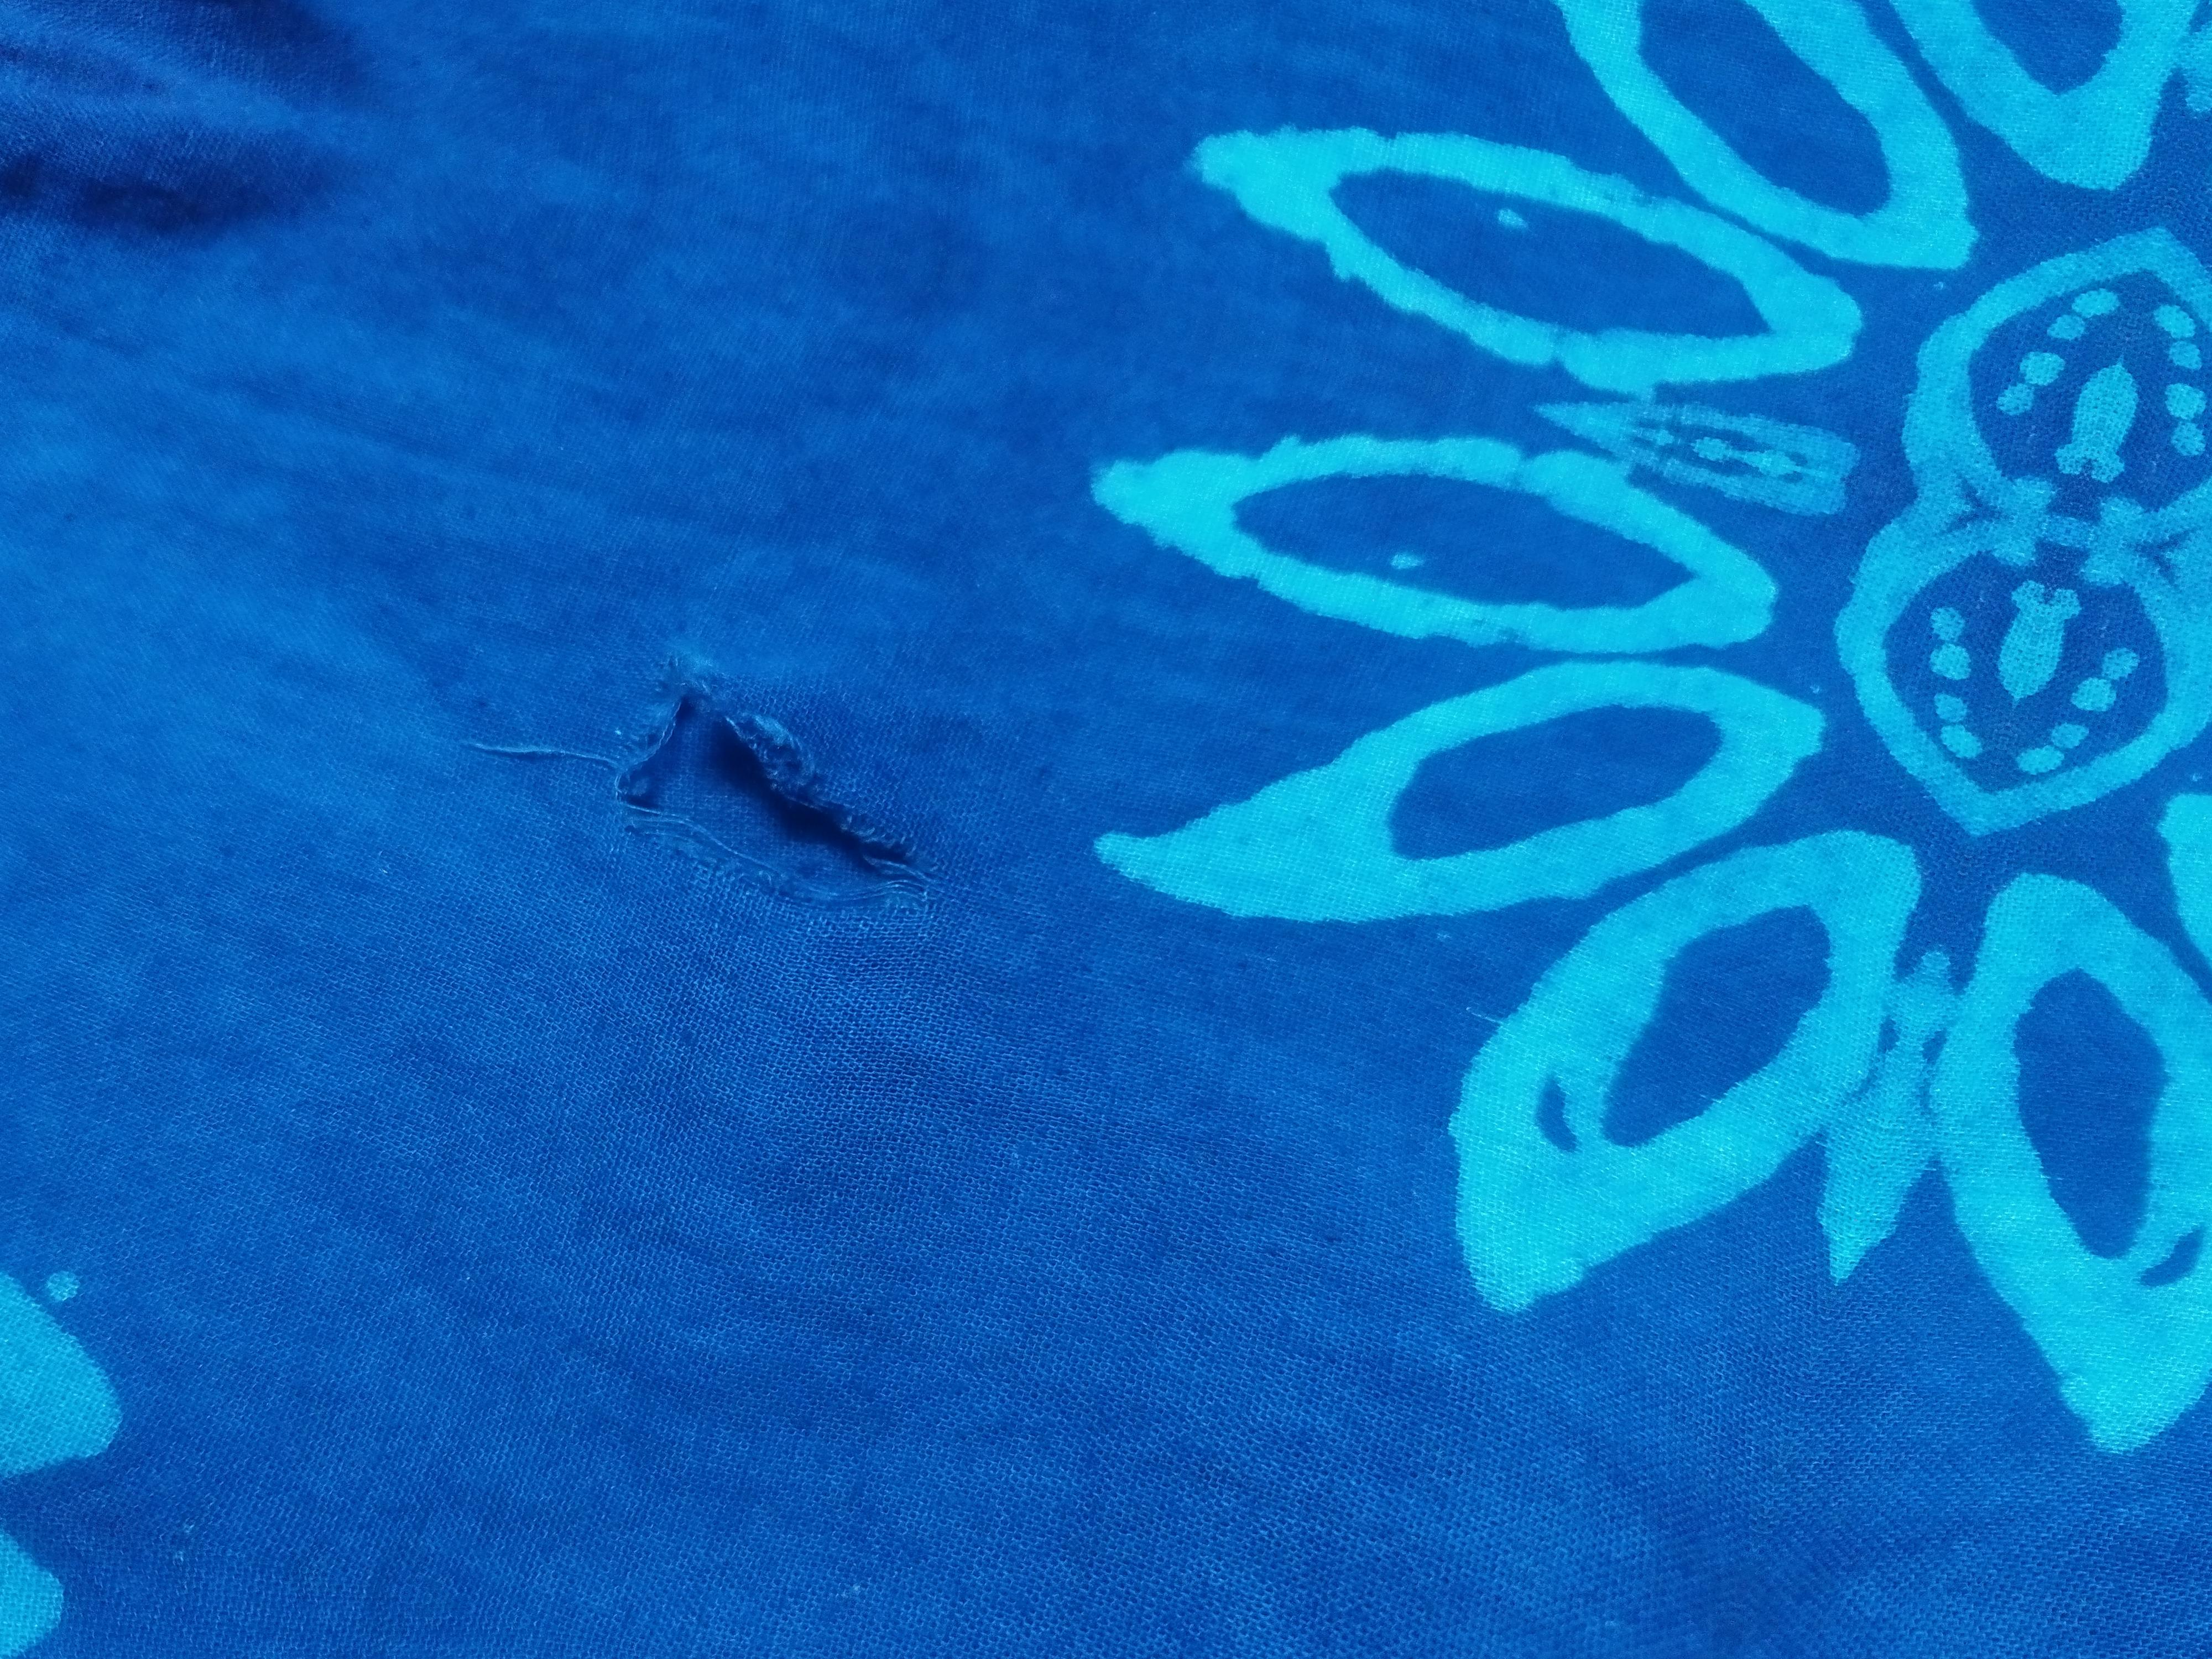hole: (590, 655, 944, 939)
